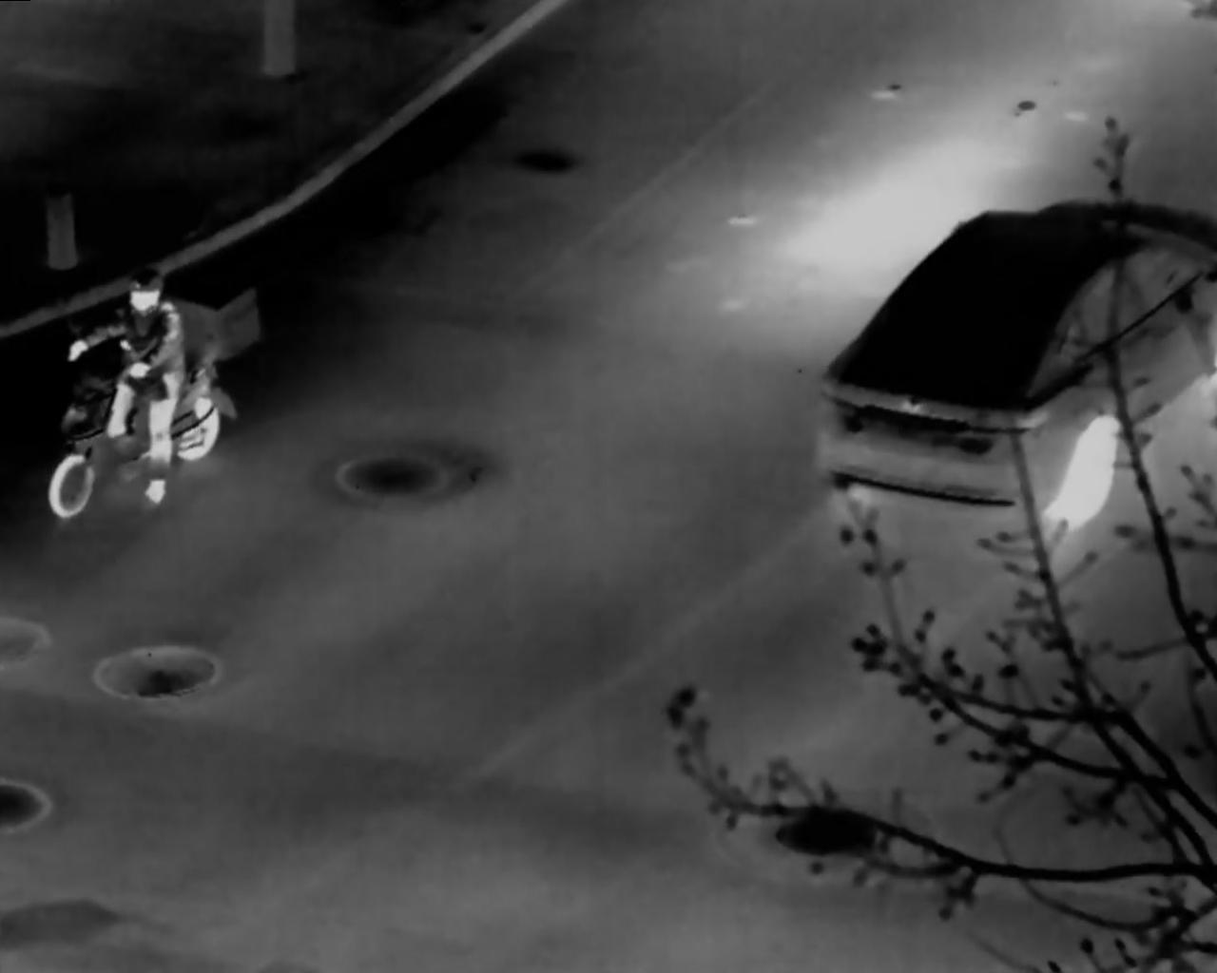person: (68, 264, 178, 505)
